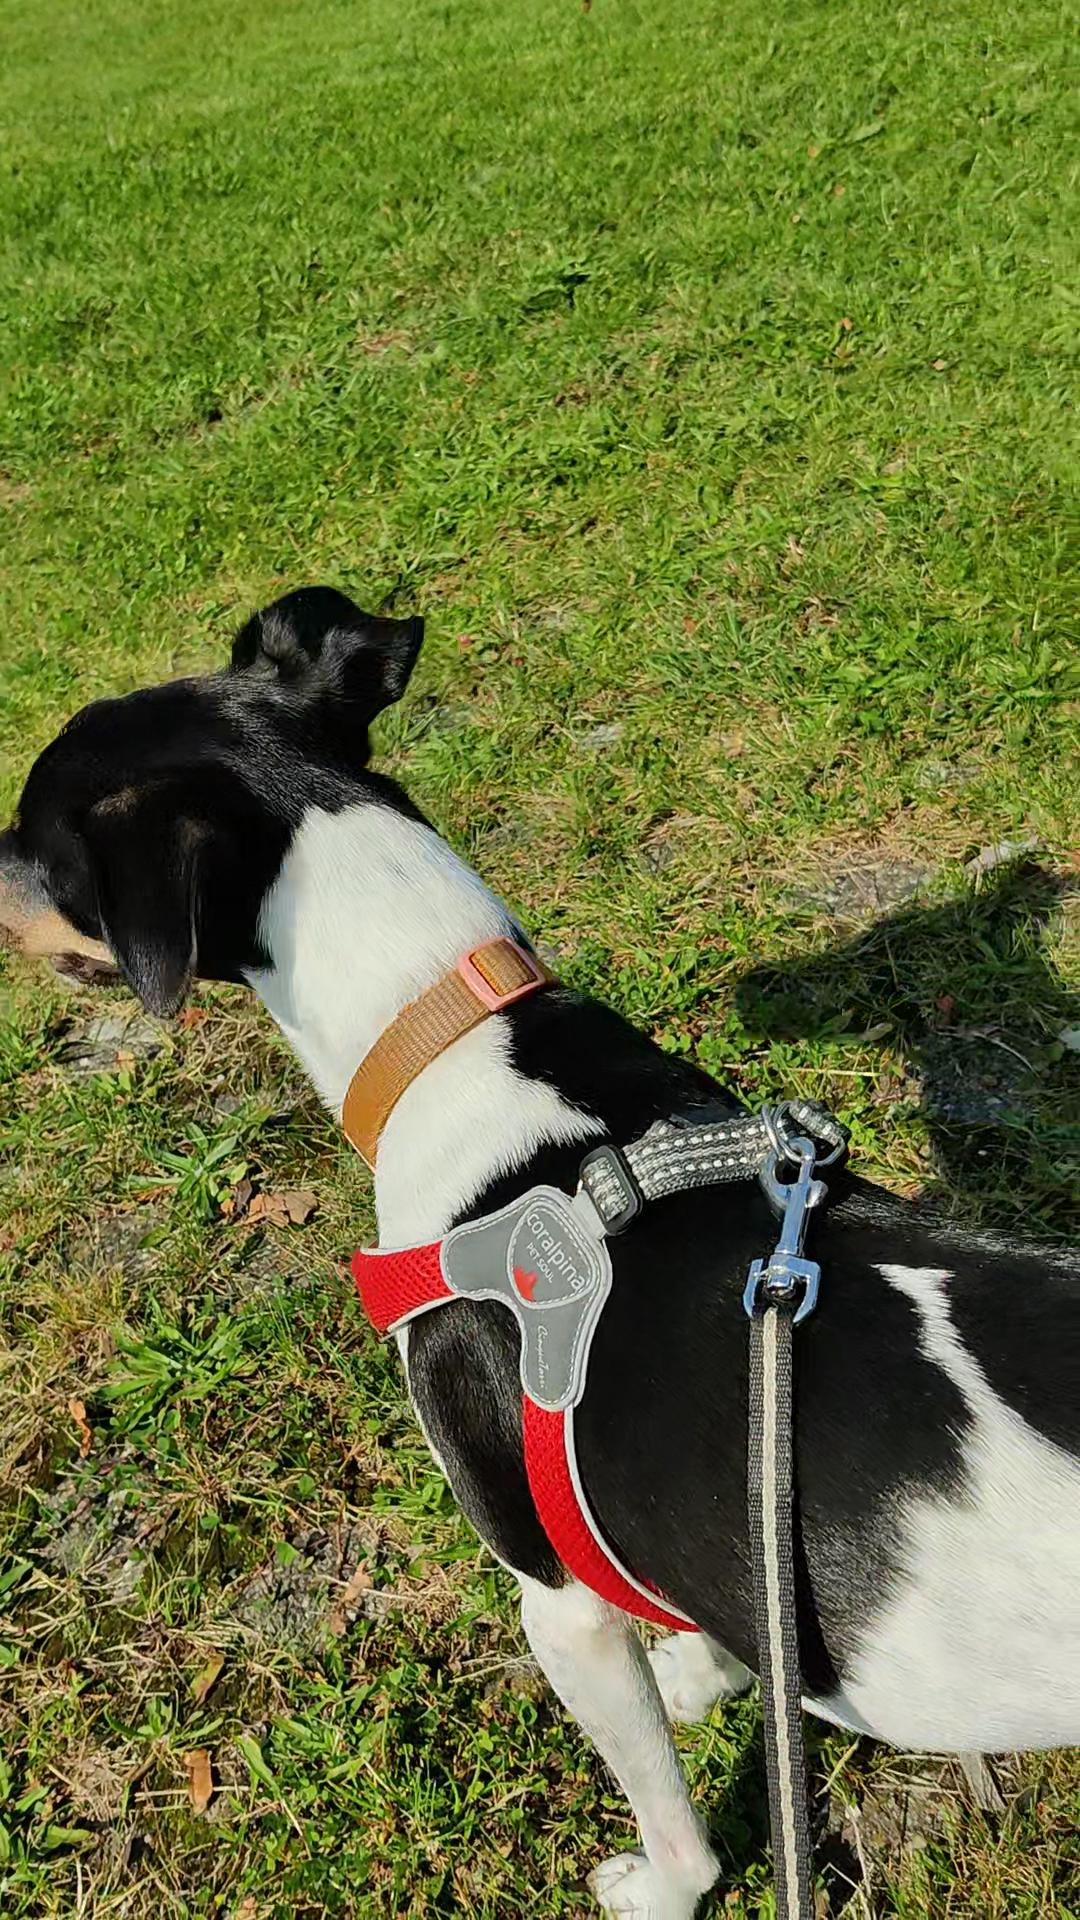Dog: (0, 559, 1079, 1919)
